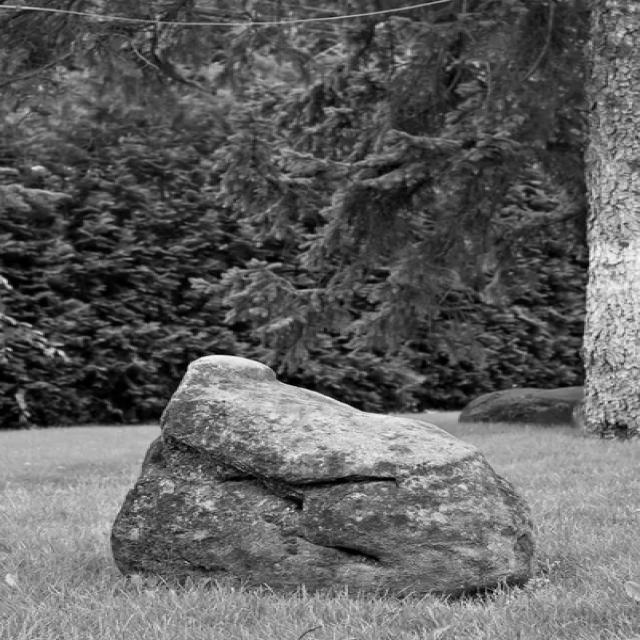Stone: (112, 356, 536, 596)
Tree: (584, 0, 640, 440)
